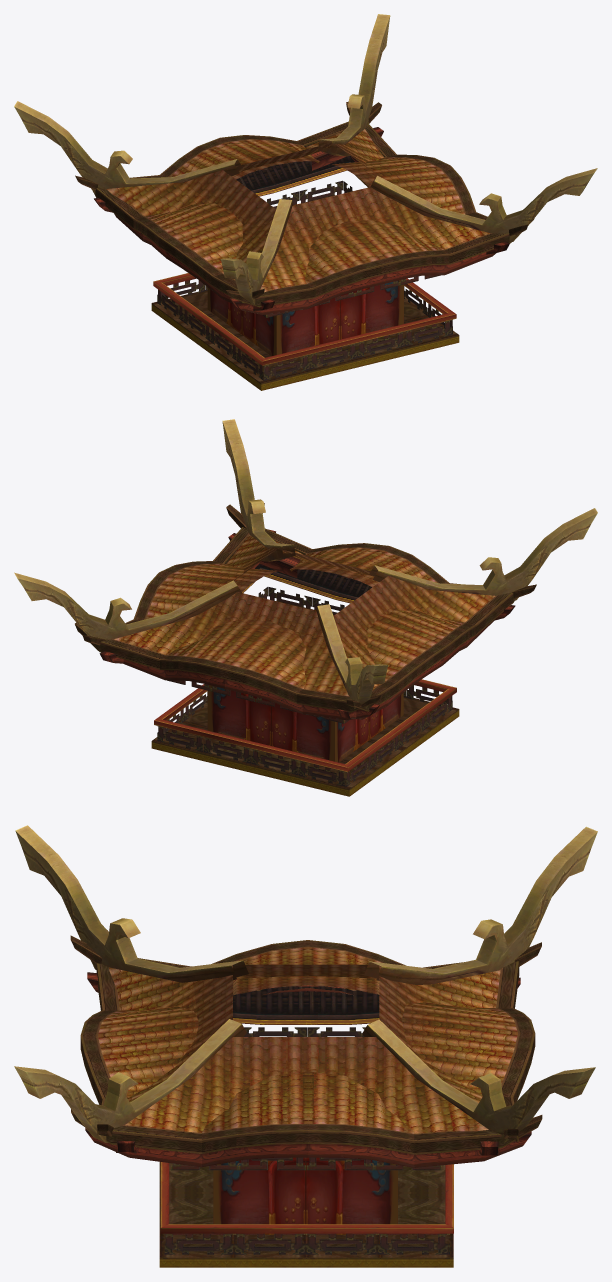
Rendered from environment_Building_zhucheng_tower_001_c.FBX.
The picture shows the model from 3 angles, top to bottom: view 1: azimuth 30°, elevation 25°; view 2: azimuth 150°, elevation 25°; view 3: azimuth 270°, elevation 25°; orthographic projection. The views are drawn at different scales.
Parts seen in each view (by area): view 1: environment_Building_zhucheng_tower_001_c05, environment_Building_zhucheng_tower_001_c01, environment_Building_zhucheng_tower_001_c02, environment_Building_zhucheng_tower_001_c03, environment_Building_zhucheng_tower_001_c04, environment_Building_zhucheng_tower_001_c06; view 2: environment_Building_zhucheng_tower_001_c05, environment_Building_zhucheng_tower_001_c01, environment_Building_zhucheng_tower_001_c02, environment_Building_zhucheng_tower_001_c03, environment_Building_zhucheng_tower_001_c04, environment_Building_zhucheng_tower_001_c06; view 3: environment_Building_zhucheng_tower_001_c05, environment_Building_zhucheng_tower_001_c01, environment_Building_zhucheng_tower_001_c02, environment_Building_zhucheng_tower_001_c03, environment_Building_zhucheng_tower_001_c04, environment_Building_zhucheng_tower_001_c06.
Part boxes in pixels (x1=…): environment_Building_zhucheng_tower_001_c05: x1=106, y1=129, x2=489, y2=292; environment_Building_zhucheng_tower_001_c01: x1=75, y1=101, x2=534, y2=390; environment_Building_zhucheng_tower_001_c02: x1=14, y1=14, x2=597, y2=304; environment_Building_zhucheng_tower_001_c03: x1=207, y1=195, x2=403, y2=356; environment_Building_zhucheng_tower_001_c04: x1=157, y1=180, x2=452, y2=380; environment_Building_zhucheng_tower_001_c06: x1=236, y1=156, x2=369, y2=196; environment_Building_zhucheng_tower_001_c05: x1=114, y1=534, x2=495, y2=695; environment_Building_zhucheng_tower_001_c01: x1=75, y1=503, x2=536, y2=796; environment_Building_zhucheng_tower_001_c02: x1=14, y1=419, x2=597, y2=708; environment_Building_zhucheng_tower_001_c03: x1=207, y1=600, x2=403, y2=762; environment_Building_zhucheng_tower_001_c04: x1=157, y1=587, x2=452, y2=786; environment_Building_zhucheng_tower_001_c06: x1=242, y1=564, x2=371, y2=603; environment_Building_zhucheng_tower_001_c05: x1=98, y1=947, x2=517, y2=1133; environment_Building_zhucheng_tower_001_c01: x1=70, y1=930, x2=542, y2=1267; environment_Building_zhucheng_tower_001_c02: x1=14, y1=825, x2=597, y2=1142; environment_Building_zhucheng_tower_001_c03: x1=213, y1=1157, x2=397, y2=1234; environment_Building_zhucheng_tower_001_c04: x1=164, y1=1027, x2=449, y2=1254; environment_Building_zhucheng_tower_001_c06: x1=233, y1=986, x2=379, y2=1024.
Size of the model in its own units: 2013 by 968 by 2015.
6 materials, 6 textured.
